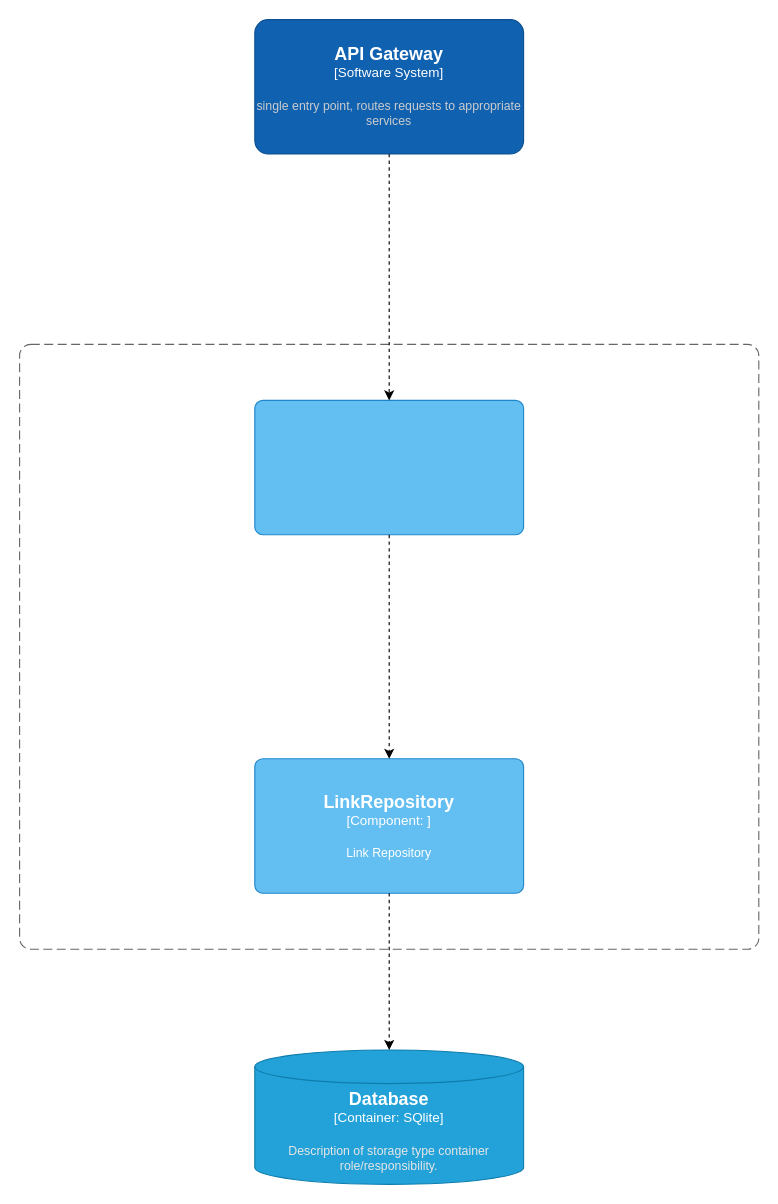
The diagram is 778 pixels wide and 1204 high, and some of its shapes have lost their labels. Here are the shapes that lost their labels. From the top down, the box of each, then its label:
(254, 399, 524, 535): Validator [Component: ] Validator
(18, 343, 759, 949): Link Service [Software System]
